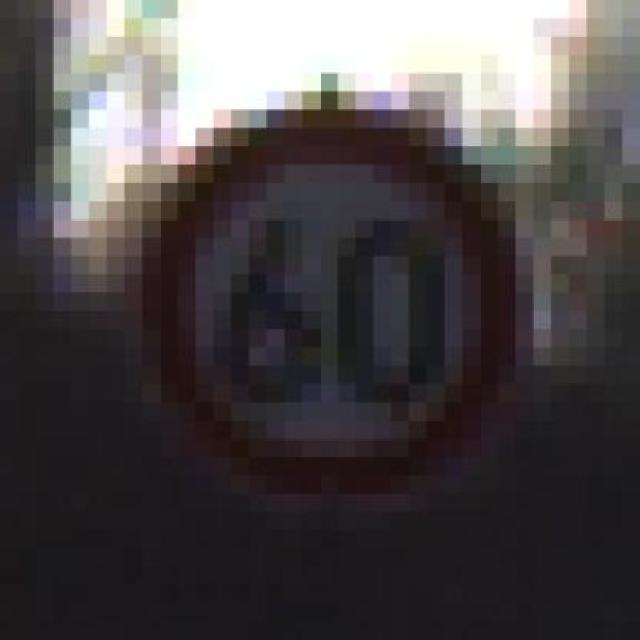forb_speed_over_60: (151, 118, 518, 495)
